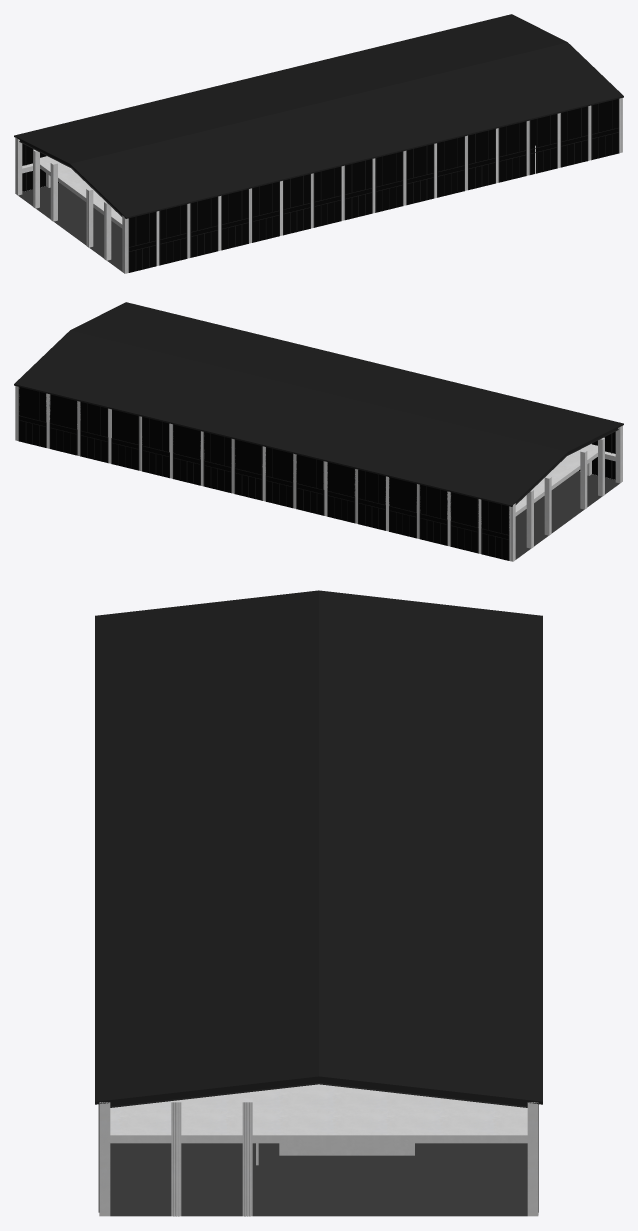
The model's file is Awaji model.fbx.
The picture shows the model from 3 angles, top to bottom: view 1: azimuth 30°, elevation 25°; view 2: azimuth 150°, elevation 25°; view 3: azimuth 270°, elevation 25°; orthographic projection. The views are drawn at different scales.
Visible parts, largest first — view 1: steel, glass, wall, alumi, floor; view 2: steel, glass, wall, alumi, floor; view 3: steel, floor, wall.
Boxes of the visible parts, left/top/right/bottom form: steel: left=14, top=14, right=623, bottom=218; glass: left=22, top=99, right=618, bottom=272; wall: left=15, top=98, right=622, bottom=273; alumi: left=24, top=99, right=619, bottom=272; floor: left=18, top=183, right=122, bottom=271; steel: left=14, top=302, right=623, bottom=506; glass: left=19, top=387, right=615, bottom=560; wall: left=15, top=386, right=622, bottom=561; alumi: left=18, top=387, right=612, bottom=560; floor: left=515, top=471, right=619, bottom=559; steel: left=95, top=590, right=542, bottom=1107; floor: left=110, top=1143, right=527, bottom=1216; wall: left=99, top=1084, right=538, bottom=1216.
Size of the model in its own units: 64667 by 25163 by 8657.
Materials: 6 (1 with a texture image).
